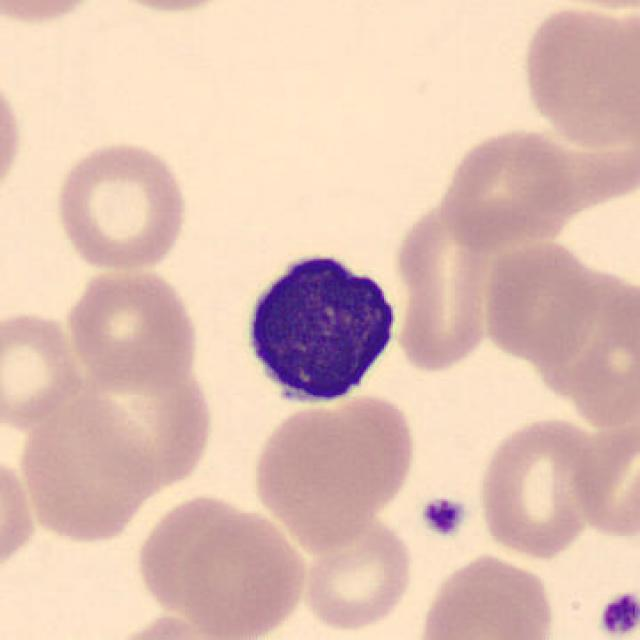Lymphocyte: (231, 238, 411, 414)
Platelets: (416, 494, 469, 540), (595, 589, 640, 640)
RBC: (247, 398, 398, 552), (12, 392, 156, 546), (389, 199, 512, 364), (66, 351, 214, 483), (130, 490, 268, 631), (50, 136, 192, 273), (62, 259, 203, 393), (475, 412, 601, 560), (174, 508, 311, 640), (518, 2, 638, 152), (436, 122, 572, 250), (478, 236, 603, 365), (298, 391, 418, 515), (298, 511, 418, 635), (538, 276, 640, 414), (416, 550, 558, 640), (0, 305, 87, 432), (567, 414, 638, 543), (0, 449, 39, 584), (0, 65, 27, 205), (100, 612, 234, 640), (0, 0, 112, 28), (91, 0, 249, 16), (526, 0, 640, 14)
